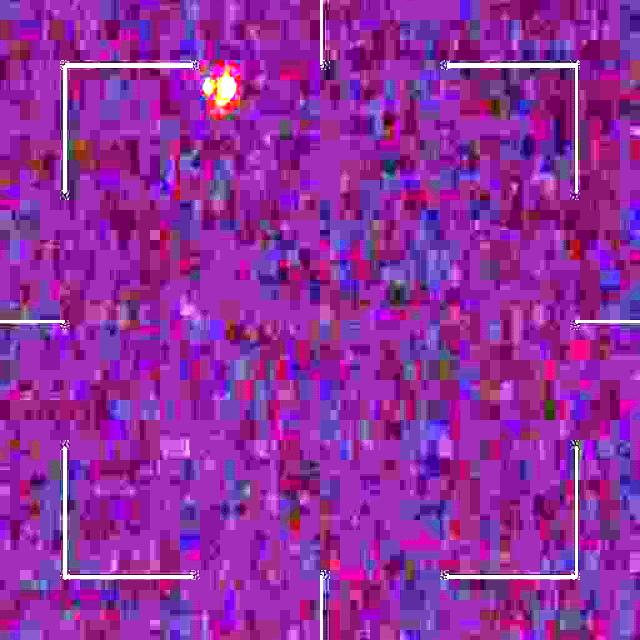bird: (198, 71, 234, 115)
